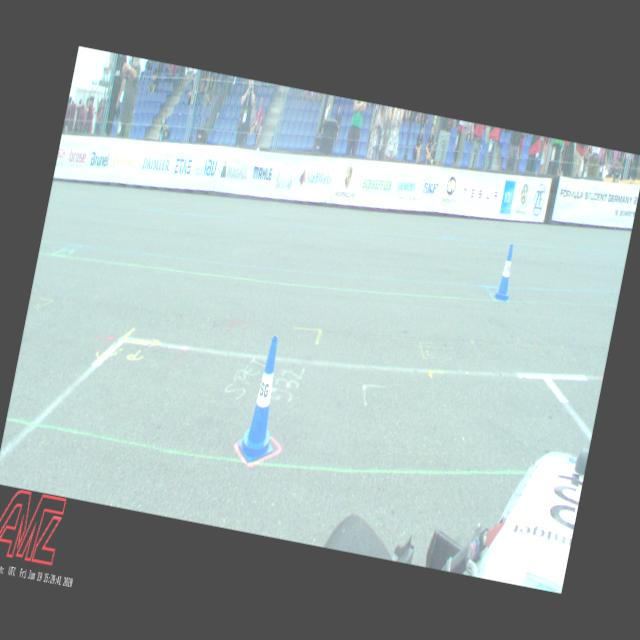blue_cone: (235, 334, 294, 466), (493, 243, 518, 300)
